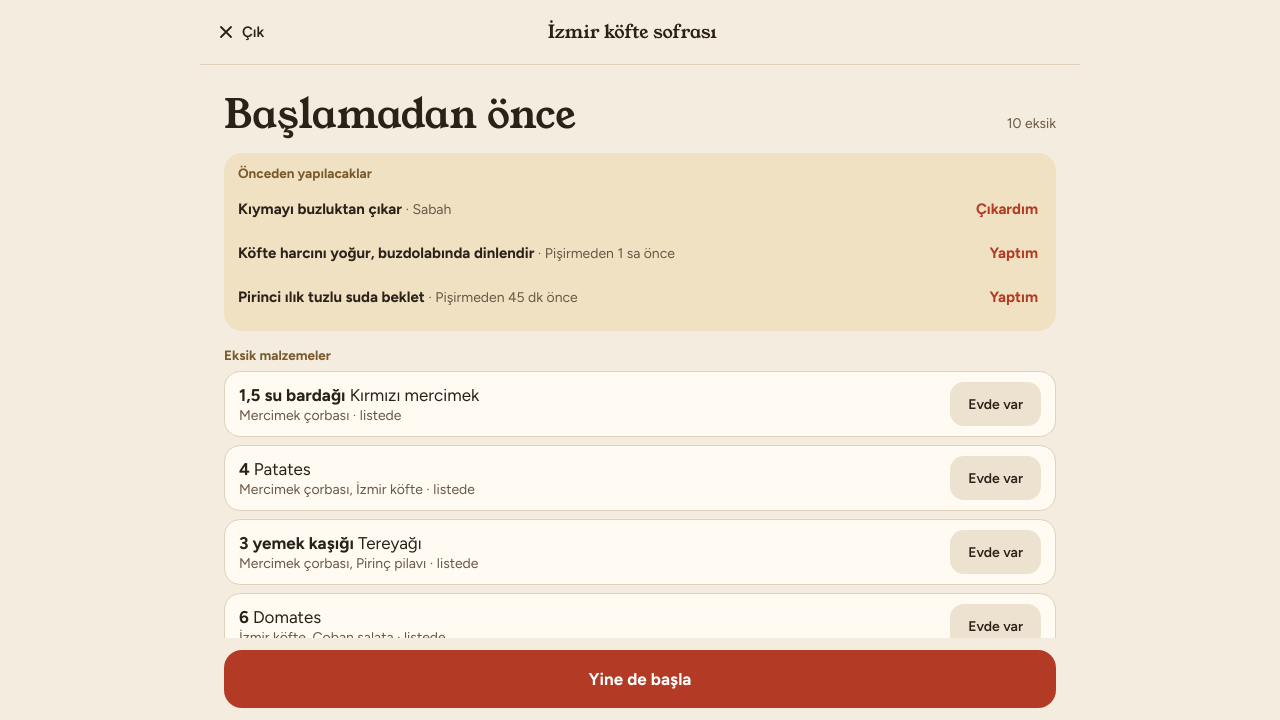
Scenario: cooking mode › Başlamadan önce: only what is missing — prep first, then ingredients with Evde var / Listeye ekle
Expected: the heading "Başlamadan önce" is shown, x1=224 y1=93 x2=576 y2=137
Expected: the element "Önceden yapılacaklar" shows "Kıymayı buzluktan çıkar", x1=238 y1=200 x2=402 y2=218
Click the button " evde var" in the row of "1,5 su bardağı": (996,404) x1=950 y1=382 x2=1041 y2=426
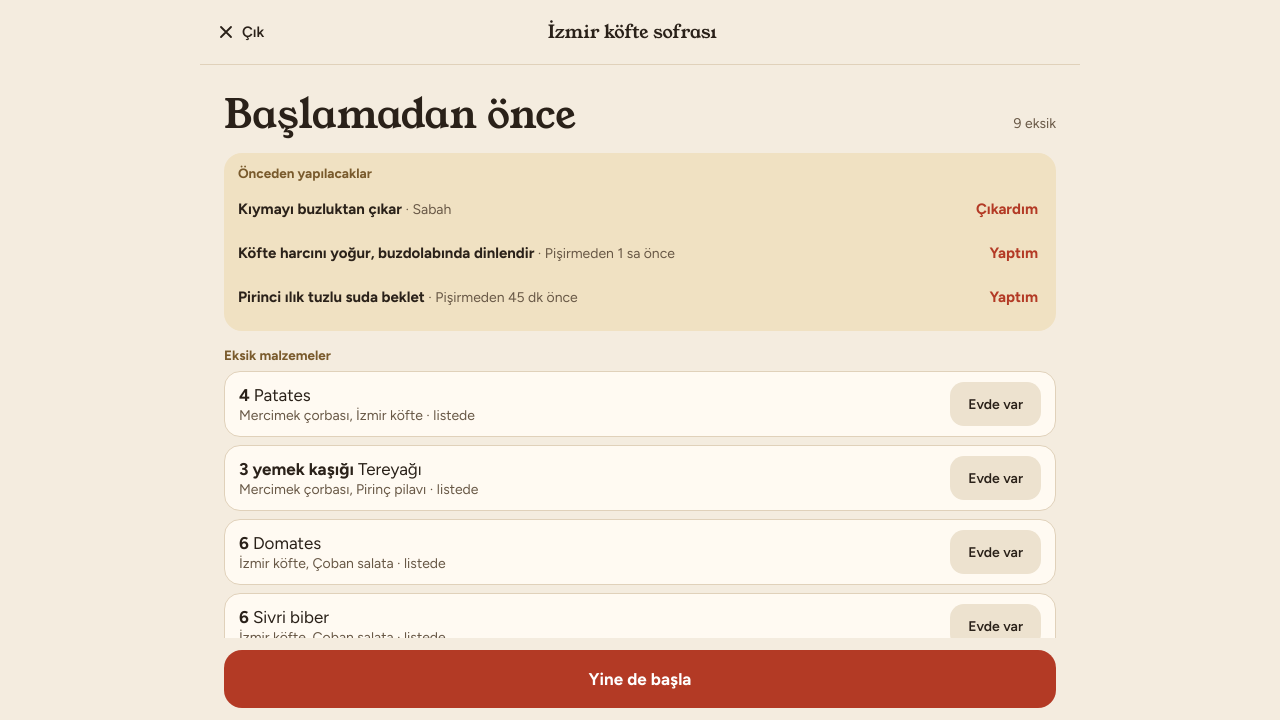
Click the button "Çıkardım": (1007,209) x1=972 y1=187 x2=1042 y2=231
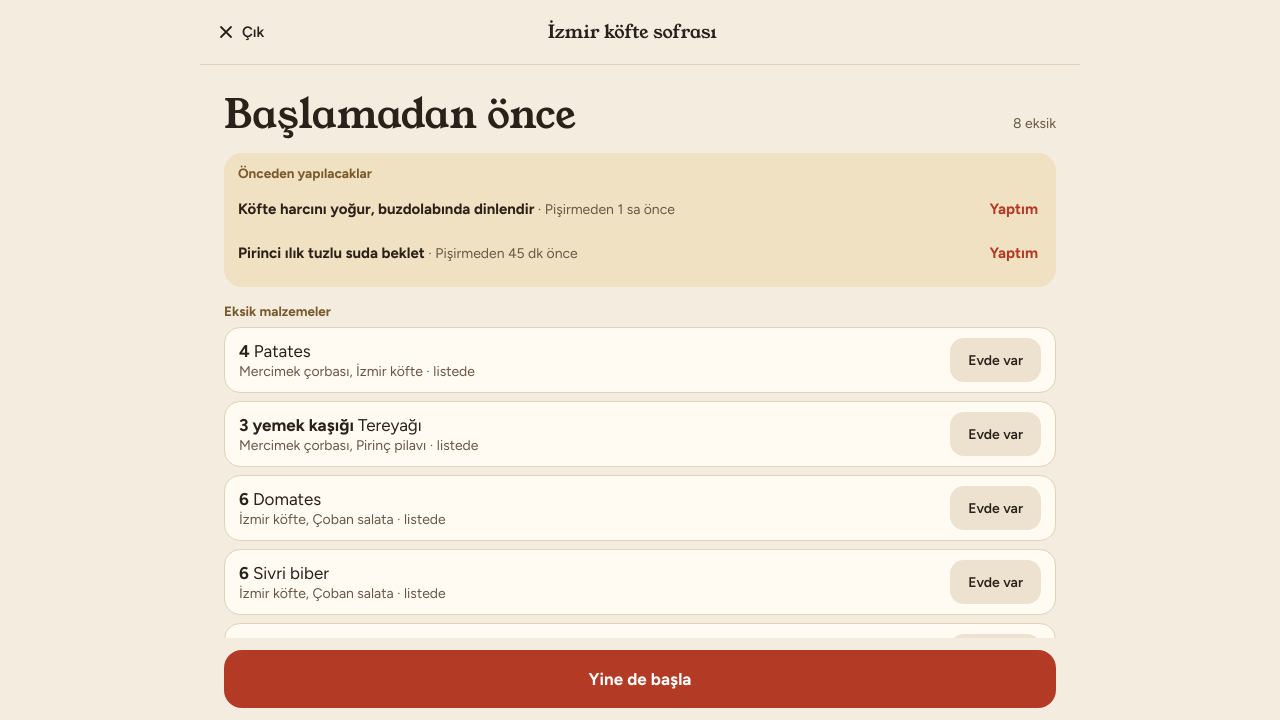
Now the element "Önceden yapılacaklar" no longer shows "Kıymayı buzluktan çıkar", box x1=224 y1=153 x2=1056 y2=287
Click the button "Yine de başla": (640,679) x1=224 y1=650 x2=1056 y2=708
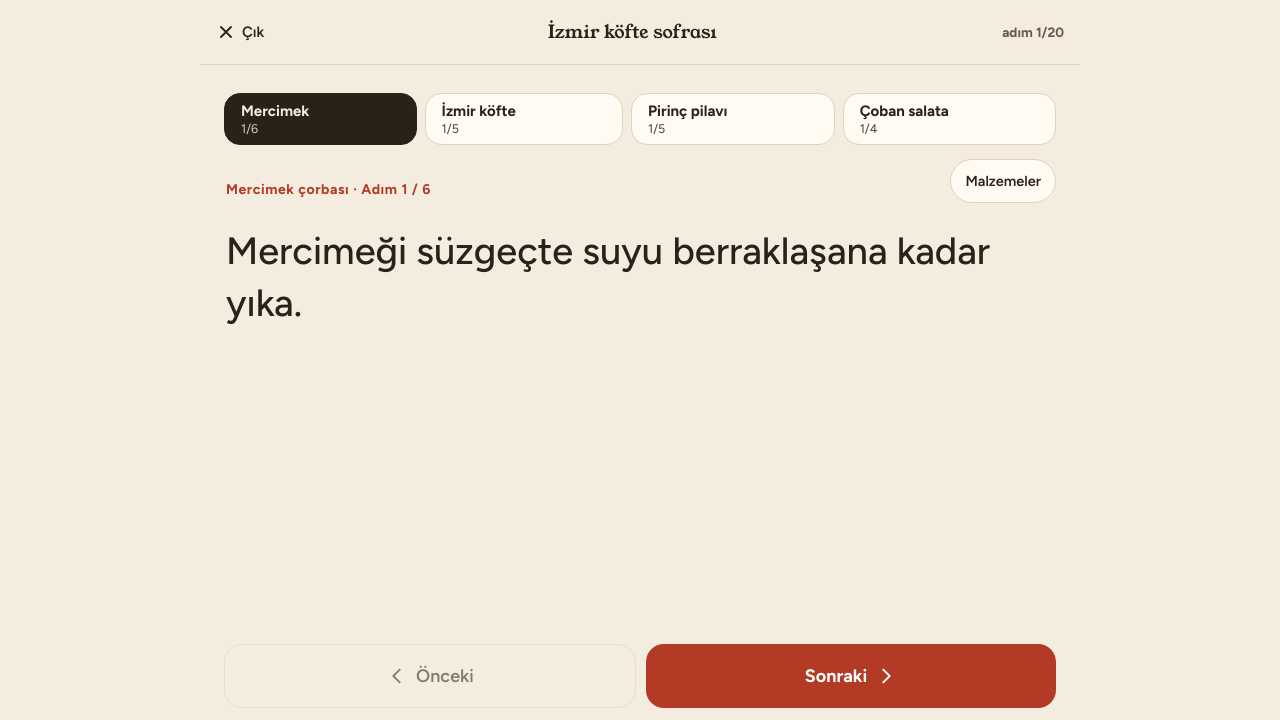
Now the heading shows "Mercimek çorbası · Adım 1 /", box x1=226 y1=180 x2=431 y2=198
